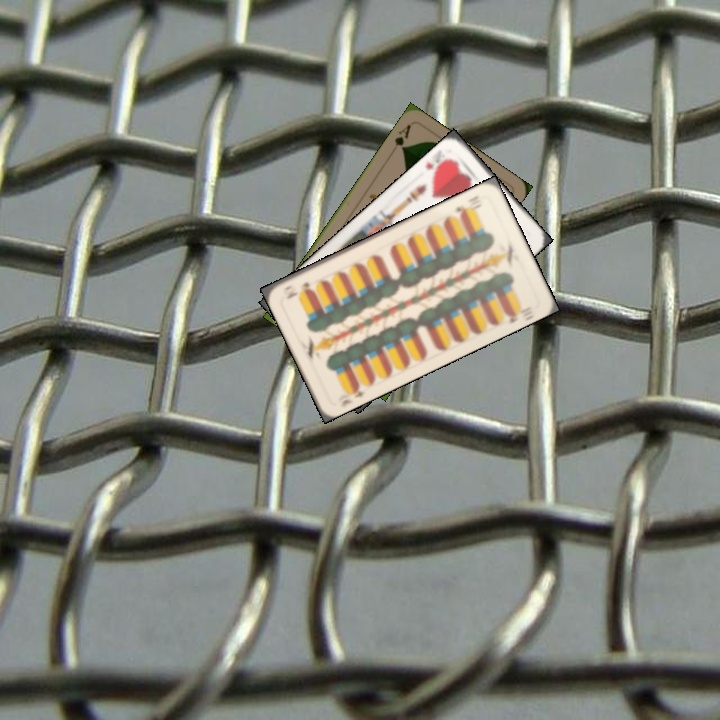E10: (336, 380, 367, 410), (450, 195, 483, 218)
GA: (390, 120, 414, 153)
HK: (421, 153, 454, 177)
